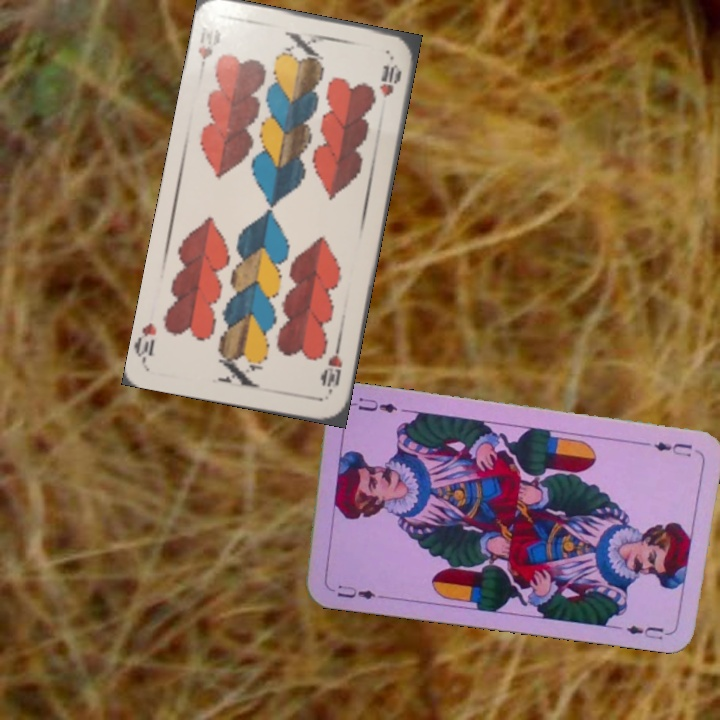EU: (326, 580, 385, 602), (638, 438, 695, 460)
H10: (193, 25, 224, 78), (318, 339, 345, 397)
